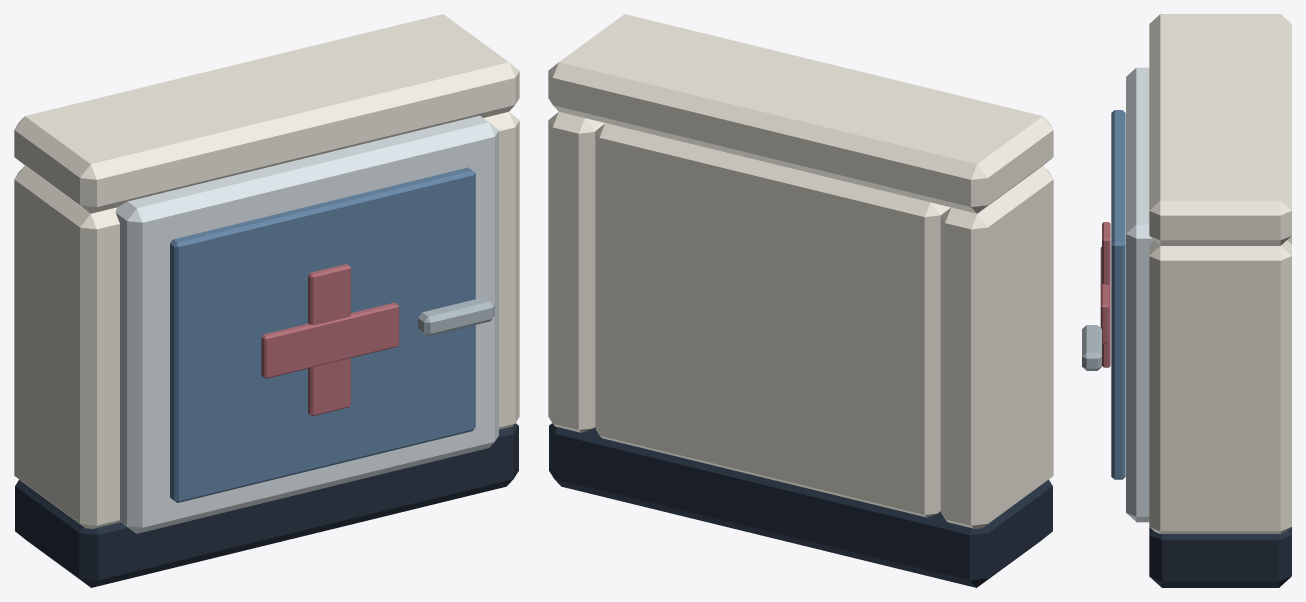
The model's file is medical_08.glb.
3 views of the same model, side by side, from view 1: azimuth 30°, elevation 25°; view 2: azimuth 150°, elevation 25°; view 3: azimuth 270°, elevation 25° (orthographic). The views are drawn at different scales.
Parts seen in each view (by area): view 1: InsetPanel, Top, DoorPanel, Side (×2), Base, MedicalCrossHorizontal, MedicalCrossVertical, Handle; view 2: Back, Top, Side (×2), Base; view 3: Side, Top, DoorPanel, Base, InsetPanel, MedicalCrossVertical, Handle, MedicalCrossHorizontal.
Boxes of the visible parts, left/top/right/bottom form: InsetPanel: left=170, top=167, right=475, bottom=502; Top: left=14, top=14, right=519, bottom=213; DoorPanel: left=115, top=115, right=498, bottom=533; Side (×2): left=14, top=112, right=519, bottom=528; Base: left=15, top=423, right=518, bottom=587; MedicalCrossHorizontal: left=261, top=302, right=399, bottom=378; MedicalCrossVertical: left=308, top=264, right=350, bottom=416; Handle: left=418, top=297, right=494, bottom=336; Back: left=595, top=123, right=950, bottom=517; Top: left=548, top=14, right=1053, bottom=213; Side (×2): left=548, top=112, right=1053, bottom=528; Base: left=549, top=423, right=1052, bottom=587; Side: left=1149, top=240, right=1291, bottom=534; Top: left=1149, top=14, right=1291, bottom=245; DoorPanel: left=1126, top=67, right=1154, bottom=522; Base: left=1149, top=527, right=1291, bottom=587; InsetPanel: left=1111, top=110, right=1125, bottom=479; MedicalCrossVertical: left=1102, top=222, right=1110, bottom=367; Handle: left=1082, top=325, right=1101, bottom=370; MedicalCrossHorizontal: left=1100, top=247, right=1109, bottom=343.
Bounding box in the file's own units: 0.65 × 0.6 × 0.294.
